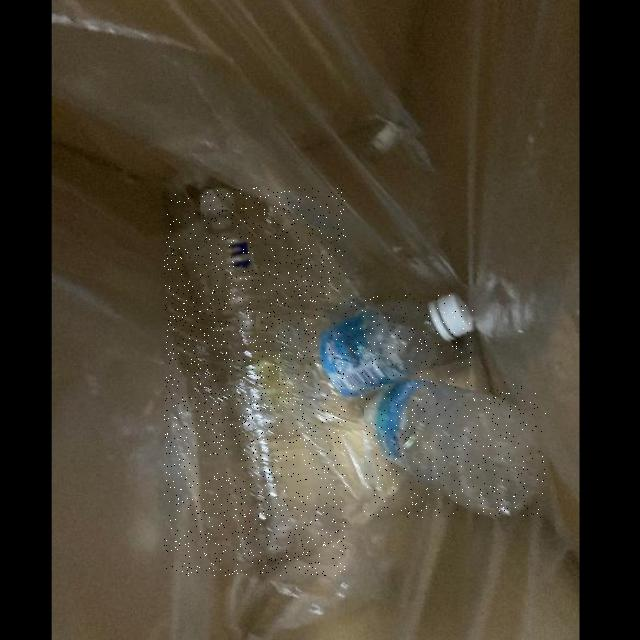plastic: (165, 187, 346, 576), (365, 381, 546, 518), (317, 294, 473, 399)
